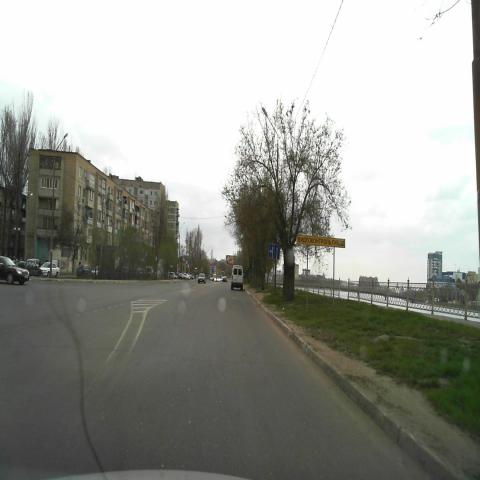5_15_2_2: (268, 242, 280, 258)
